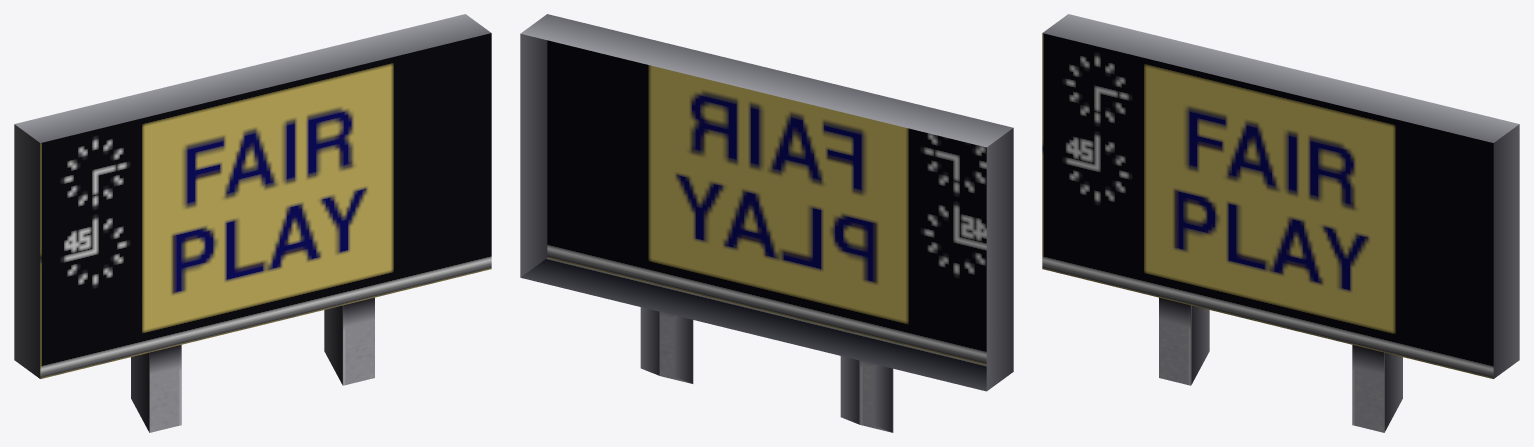
The picture shows the model from 3 angles, left to right: view 1: azimuth 30°, elevation 25°; view 2: azimuth 150°, elevation 25°; view 3: azimuth 330°, elevation 25°; orthographic projection. The views are drawn at different scales.
Bounding box in the file's own units: 28 × 18.98 × 2.8.
2 materials, 2 textured.
